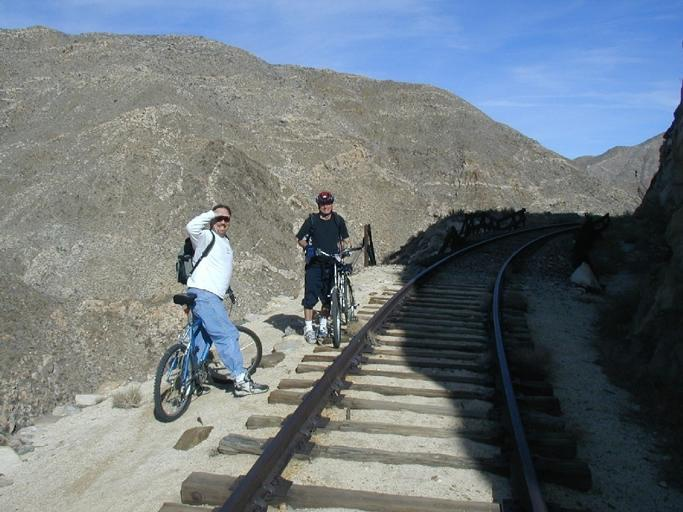non-vehicle: (153, 285, 261, 422), (315, 246, 362, 347)
